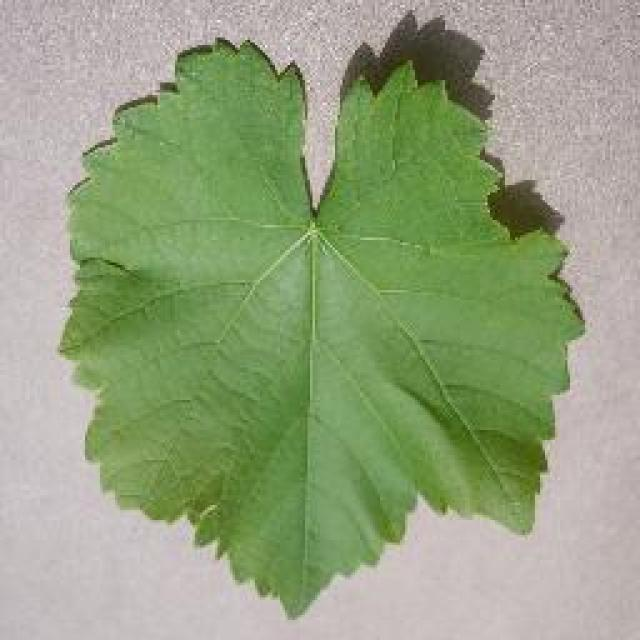Grape___healthy: (62, 40, 580, 615)
